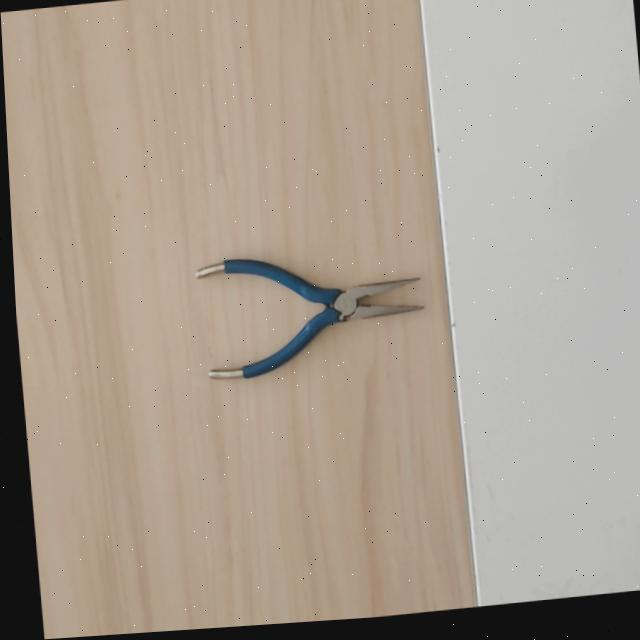Tang-Jepit-Biru: (194, 238, 428, 385)
